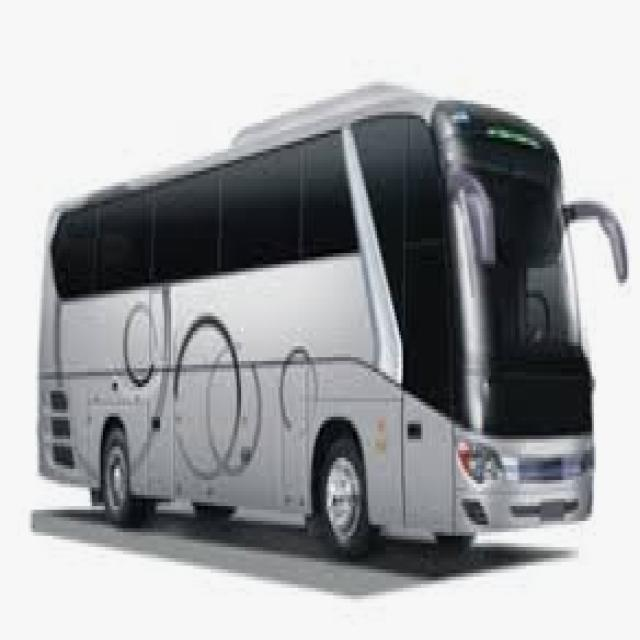Bus: (28, 49, 629, 592)
